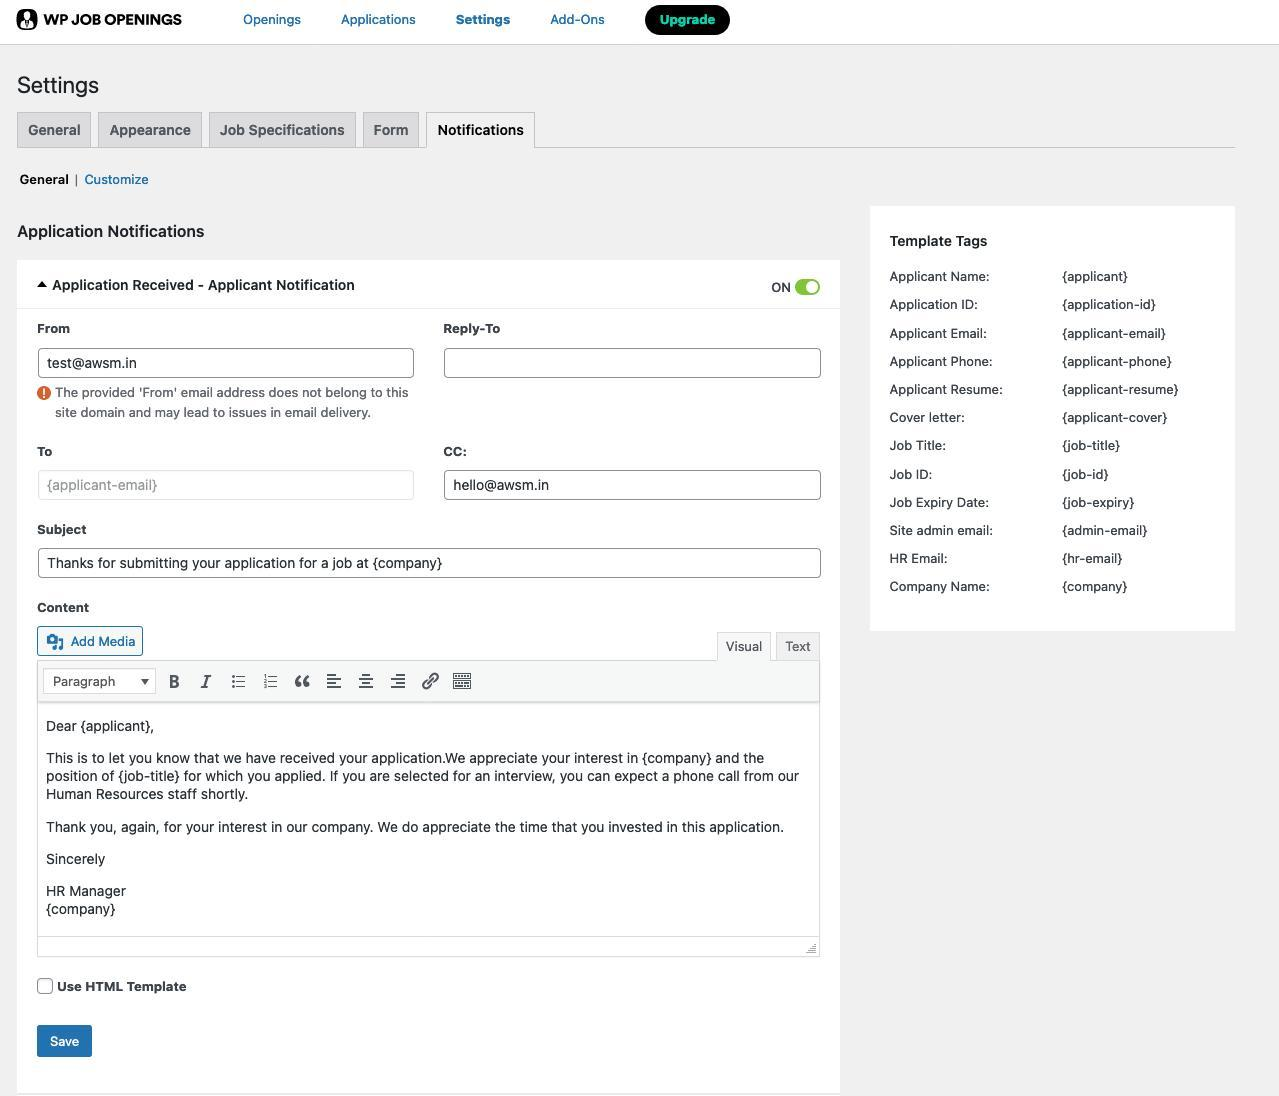button: (209, 113, 357, 150), (427, 113, 535, 149), (99, 113, 203, 149), (39, 628, 144, 657), (18, 113, 92, 149), (645, 7, 732, 36), (364, 113, 420, 148), (38, 1025, 94, 1058), (719, 634, 771, 661), (777, 636, 820, 660)
checkbox: (38, 979, 54, 995)
dropdown: (44, 670, 157, 695)
icon: (451, 672, 475, 694), (421, 672, 442, 693), (326, 672, 347, 692), (389, 673, 410, 693), (358, 672, 376, 693), (294, 673, 312, 692), (231, 674, 248, 692), (263, 673, 280, 692), (167, 674, 182, 692), (200, 674, 214, 690)
input: (39, 549, 821, 578), (446, 349, 822, 379), (446, 472, 821, 501), (40, 349, 414, 378), (39, 472, 415, 500)
label: (58, 980, 188, 995), (440, 324, 510, 338), (37, 522, 90, 538), (38, 319, 76, 338), (439, 444, 474, 463), (33, 441, 61, 462), (770, 277, 794, 296)
switch: (795, 281, 822, 297)
